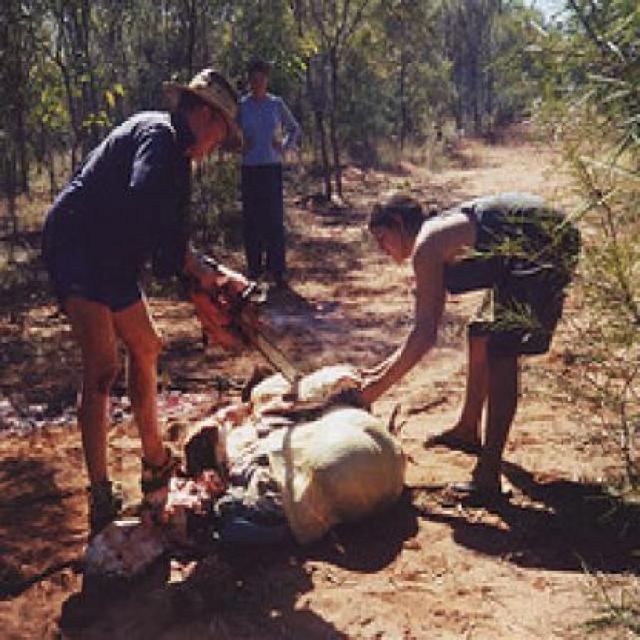Chainsaw: (179, 269, 303, 385)
